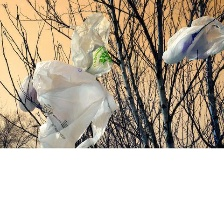plastic_bag: (30, 59, 121, 149), (160, 13, 224, 66), (68, 11, 114, 78), (12, 67, 50, 115)
